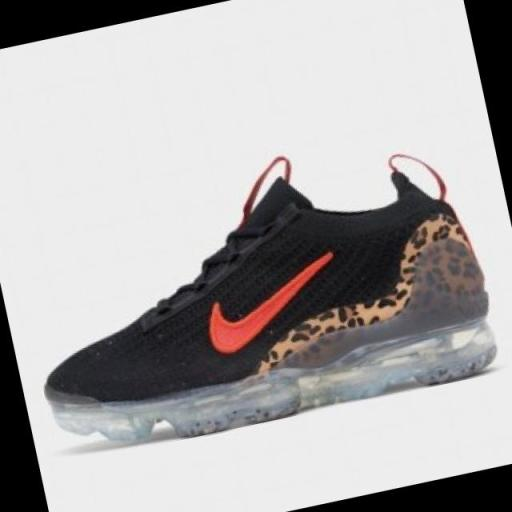Nike: (184, 242, 358, 370)
